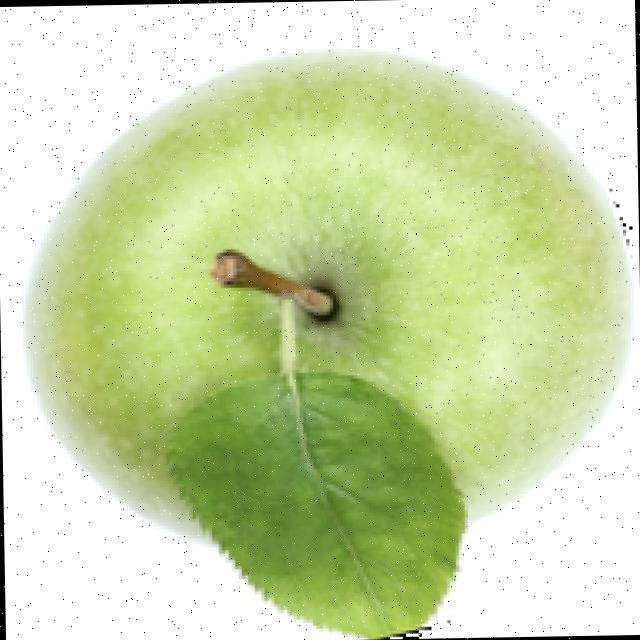apple: (16, 47, 634, 640)
